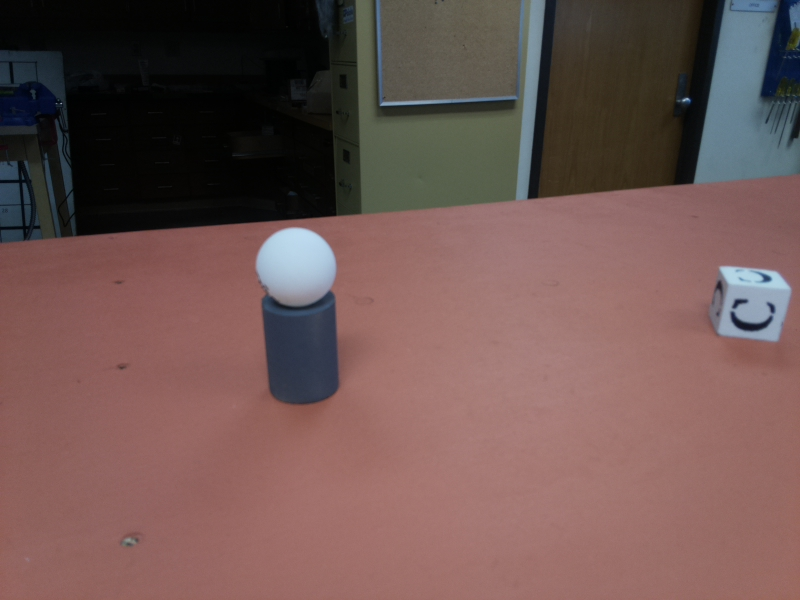blockC: (711, 265, 790, 343)
obstacle: (257, 227, 349, 406)
